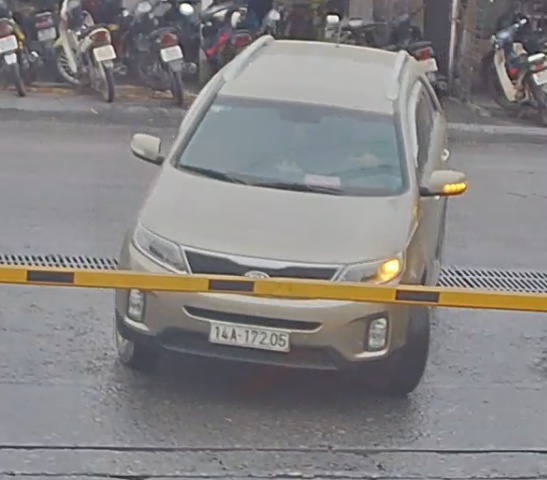vehicle plate: (204, 316, 298, 356)
